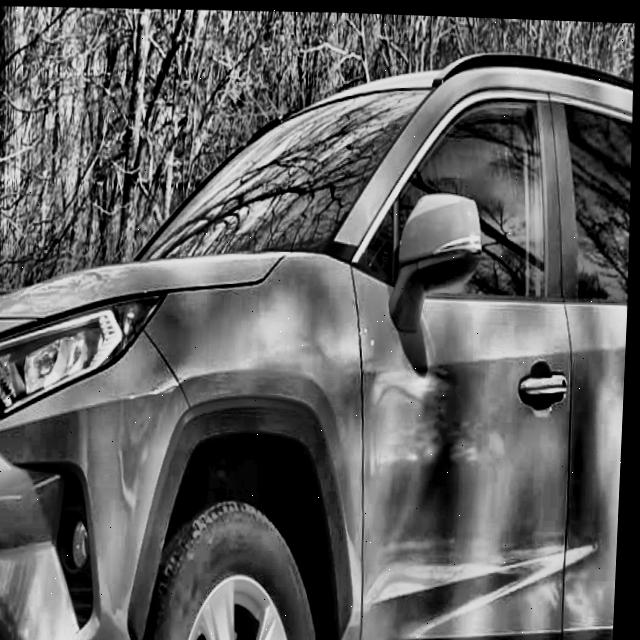light_vehicle: (0, 30, 639, 640)
